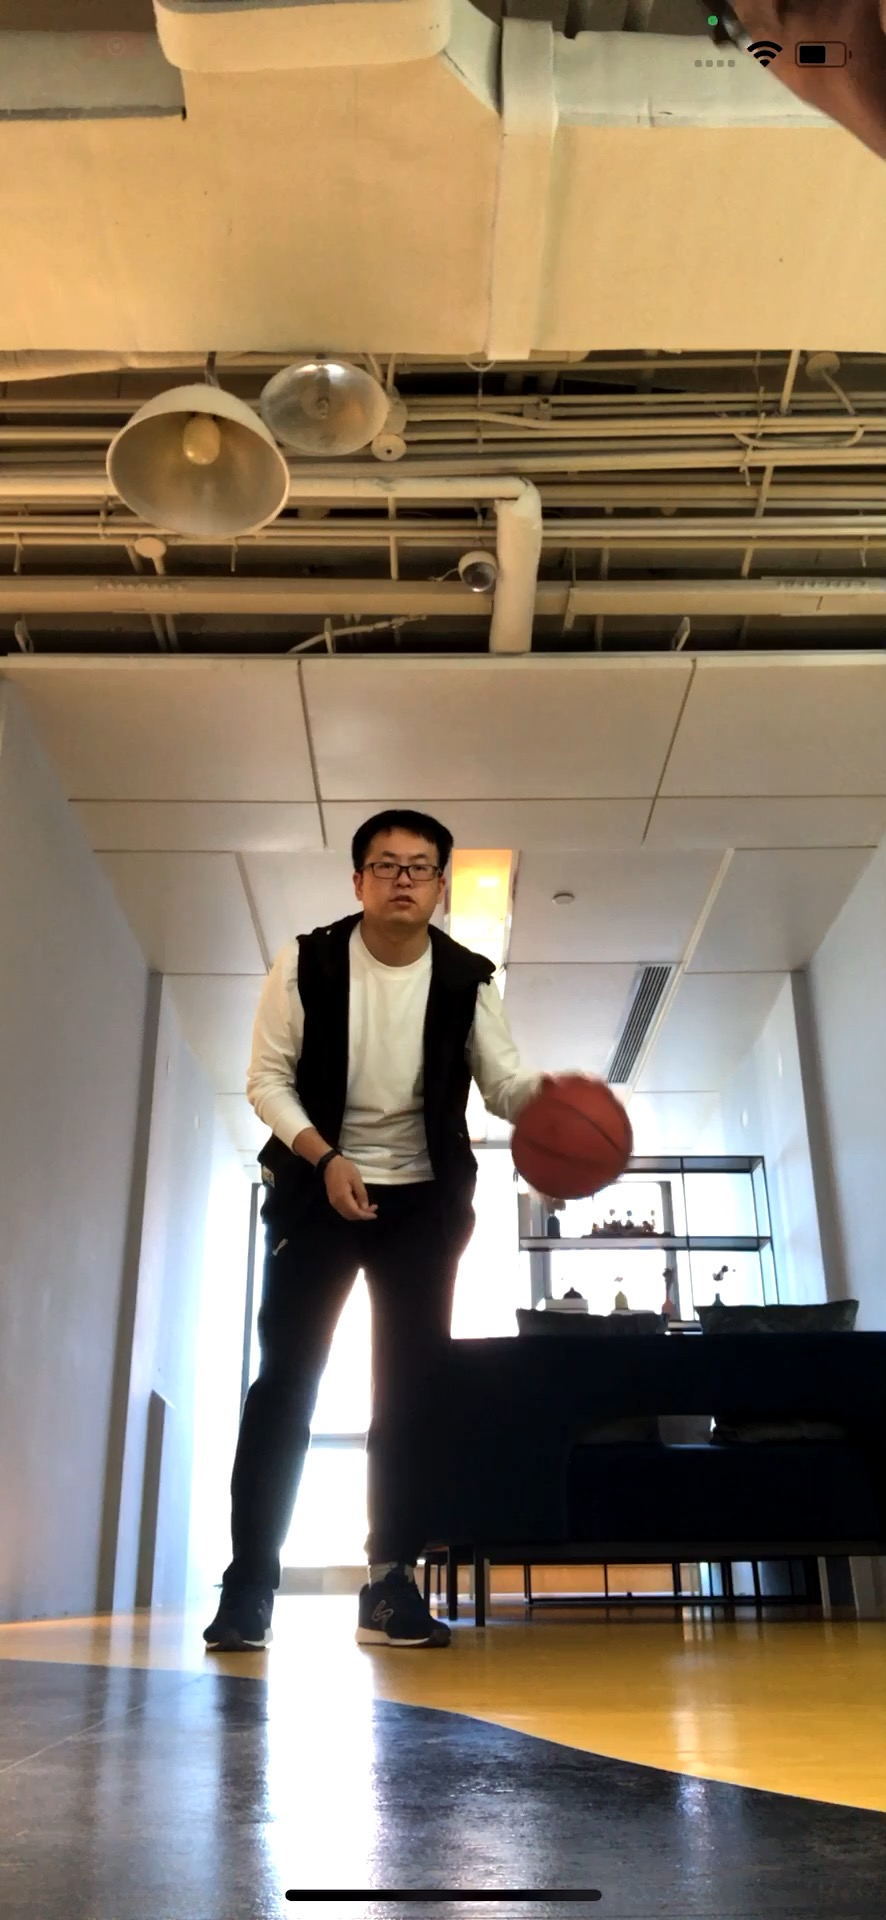ball: (512, 1080, 635, 1200)
